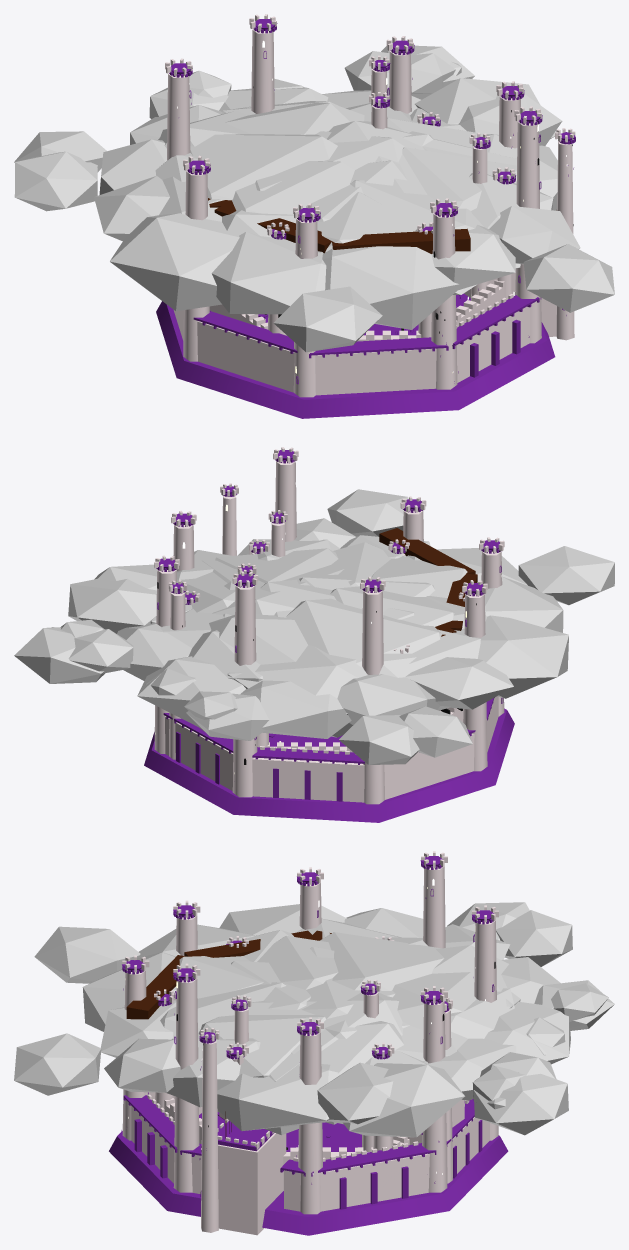
Rendered from fairytale_castle_med_compressed (2).glb.
The picture shows the model from 3 angles, top to bottom: view 1: azimuth 30°, elevation 25°; view 2: azimuth 150°, elevation 25°; view 3: azimuth 270°, elevation 25°; orthographic projection. The views are drawn at different scales.
Bounding box in the file's own units: 4600848 × 2338020 × 5209759.
